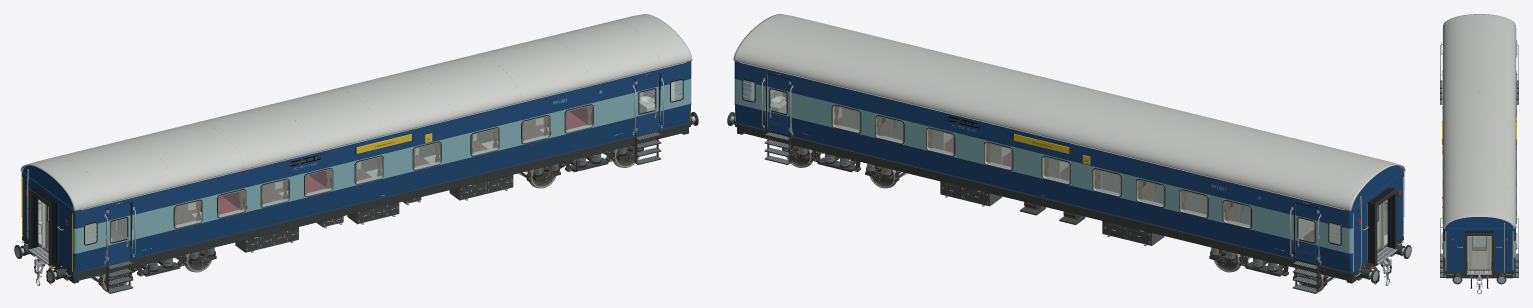
File: ICF_1A.fbx
3 renders of one model, left to right at view 1: azimuth 30°, elevation 25°; view 2: azimuth 150°, elevation 25°; view 3: azimuth 270°, elevation 25°, orthographic. The views are drawn at different scales.
Visible parts, largest first — view 1: Curved steel roof continuous skin, Welded solebar channel, Floor steel undertray, Interior floor seamless vinyl, Formed end wall, Bodyside roof rain gutter, Pressed bodyside skin.148, Pressed bodyside skin.022, Pressed bodyside skin.151, Pressed bodyside skin.025, Domed end cap skin, Pressed bodyside skin.106 (+28 smaller); view 2: Curved steel roof continuous skin, Welded solebar channel.001, Floor steel undertray, Interior floor seamless vinyl, Bodyside roof rain gutter.001, Pressed bodyside skin.326, Pressed bodyside skin.200, Formed end wall.001, Pressed bodyside skin.329, Pressed bodyside skin.203, Domed end cap skin, Pressed bodyside skin.284 (+28 smaller); view 3: Curved steel roof continuous skin, Formed end wall.002, Formed end wall.003, Domed end cap skin.001, End sliding door panel.002, End wall door header.001, Headstock buffer beam.001, Bodyside roof rain gutter, Bodyside roof rain gutter.001, End door clear window.001, Gangway sprung face frame.002, Gangway sprung face frame.003 (+11 smaller).
Part boxes in pixels (x1,y1,x2,y2): Curved steel roof continuous skin: [20, 14, 692, 211]; Welded solebar channel: [75, 128, 687, 281]; Floor steel undertray: [22, 123, 690, 277]; Interior floor seamless vinyl: [38, 120, 658, 265]; Formed end wall: [58, 201, 73, 273]; Bodyside roof rain gutter: [81, 62, 686, 210]; Pressed bodyside skin.148: [592, 118, 634, 146]; Pressed bodyside skin.022: [131, 230, 173, 258]; Pressed bodyside skin.151: [593, 94, 634, 120]; Pressed bodyside skin.025: [132, 206, 173, 233]; Domed end cap skin: [23, 165, 73, 208]; Pressed bodyside skin.106: [440, 157, 470, 183]; Curved steel roof continuous skin: [733, 14, 1405, 211]; Welded solebar channel.001: [738, 128, 1350, 281]; Floor steel undertray: [735, 123, 1403, 277]; Interior floor seamless vinyl: [767, 117, 1387, 265]; Bodyside roof rain gutter.001: [739, 62, 1344, 210]; Pressed bodyside skin.326: [791, 118, 833, 146]; Pressed bodyside skin.200: [1252, 230, 1293, 258]; Formed end wall.001: [1352, 201, 1367, 273]; Pressed bodyside skin.329: [791, 94, 832, 120]; Pressed bodyside skin.203: [1252, 206, 1293, 233]; Domed end cap skin: [1352, 165, 1402, 208]; Pressed bodyside skin.284: [955, 157, 985, 183]; Curved steel roof continuous skin: [1443, 14, 1515, 227]; Formed end wall.002: [1445, 229, 1464, 271]; Formed end wall.003: [1494, 229, 1513, 271]; Domed end cap skin.001: [1445, 217, 1513, 228]; End sliding door panel.002: [1471, 250, 1487, 269]; End wall door header.001: [1445, 228, 1513, 231]; Headstock buffer beam.001: [1446, 274, 1512, 278]; Bodyside roof rain gutter: [1442, 28, 1442, 226]; Bodyside roof rain gutter.001: [1516, 28, 1516, 226]; End door clear window.001: [1473, 237, 1485, 249]; Gangway sprung face frame.002: [1464, 234, 1467, 273]; Gangway sprung face frame.003: [1491, 234, 1494, 273].
Bounding box in the file's own units: 350 × 2230 × 405.
32 materials, 1 textured.
